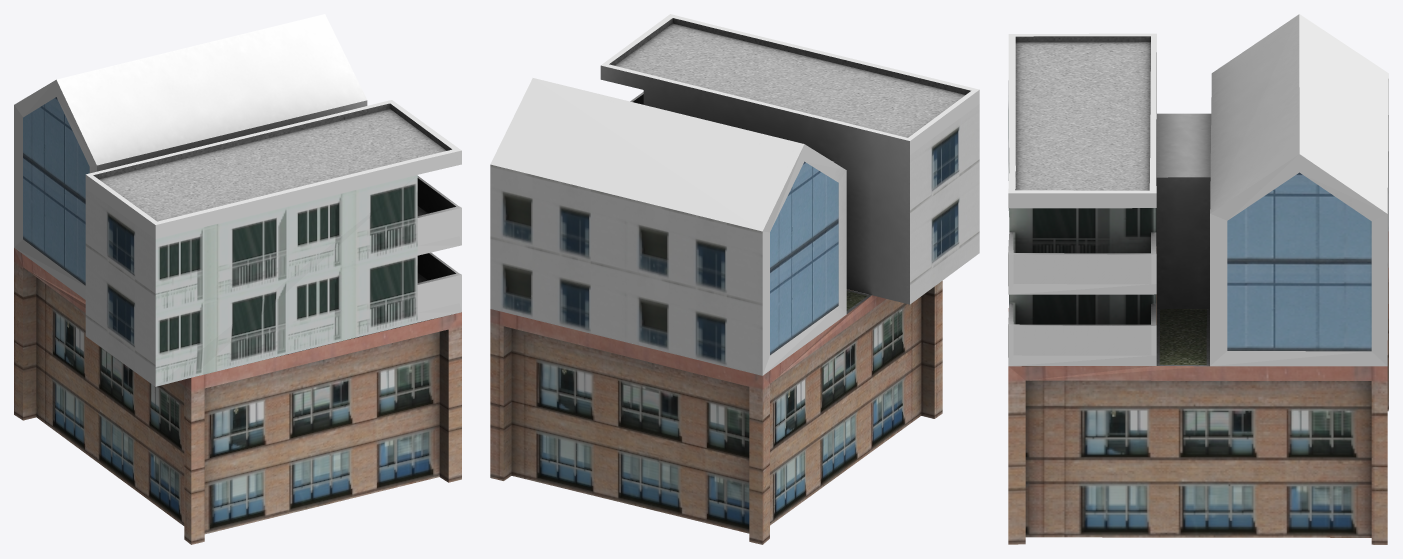
3 renders of one model, left to right at view 1: azimuth 30°, elevation 25°; view 2: azimuth 150°, elevation 25°; view 3: azimuth 270°, elevation 25°, orthographic. The views are drawn at different scales.
Visible parts, largest first — view 1: MainBuilding; view 2: MainBuilding; view 3: MainBuilding.
Part boxes in pixels (left/top/right/bottom): MainBuilding: left=14, top=14, right=461, bottom=544; MainBuilding: left=490, top=14, right=979, bottom=544; MainBuilding: left=1008, top=14, right=1388, bottom=544.
Bounding box in the file's own units: 1.15 × 1.31 × 1.16.
1 material, 1 textured.
